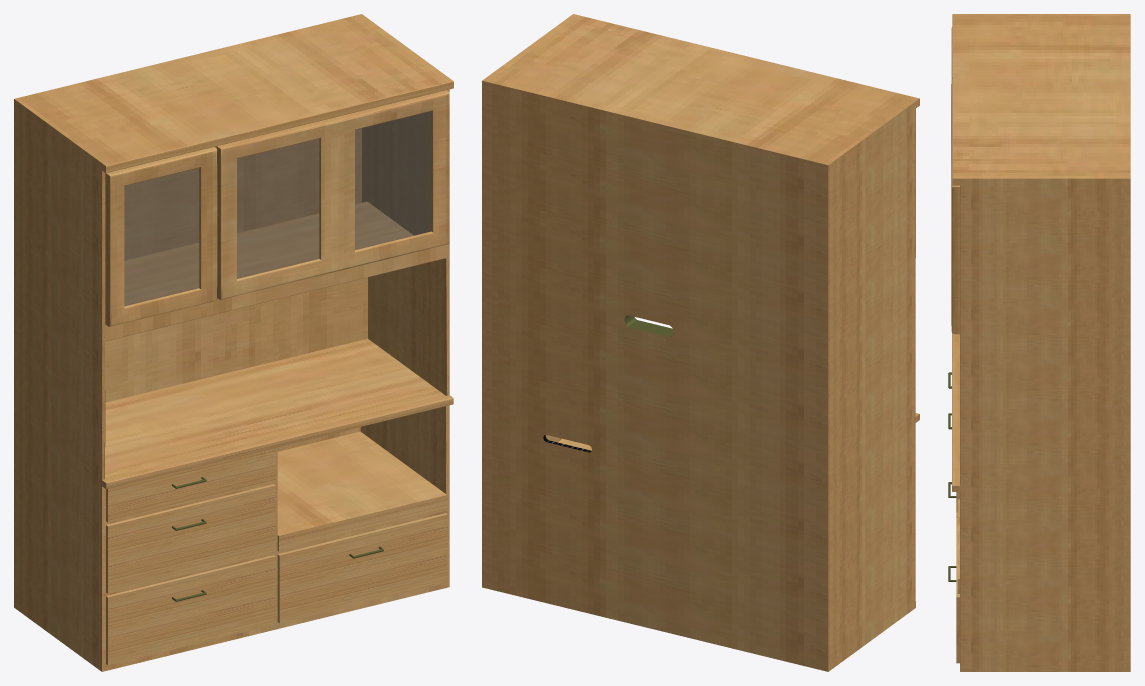
Rendered from cabinet.fbx.
The picture shows the model from 3 angles, left to right: view 1: azimuth 30°, elevation 25°; view 2: azimuth 150°, elevation 25°; view 3: azimuth 270°, elevation 25°; orthographic projection. The views are drawn at different scales.
Visible parts, largest first — view 1: cabinet3; view 2: cabinet3; view 3: cabinet3.
Part boxes in pixels (x1,y1,x2,y2): cabinet3: [14, 14, 453, 671]; cabinet3: [482, 14, 919, 671]; cabinet3: [948, 14, 1130, 671].
Bounding box in the file's own units: 7.06 × 9.87 × 3.3.
4 materials, 2 textured.
